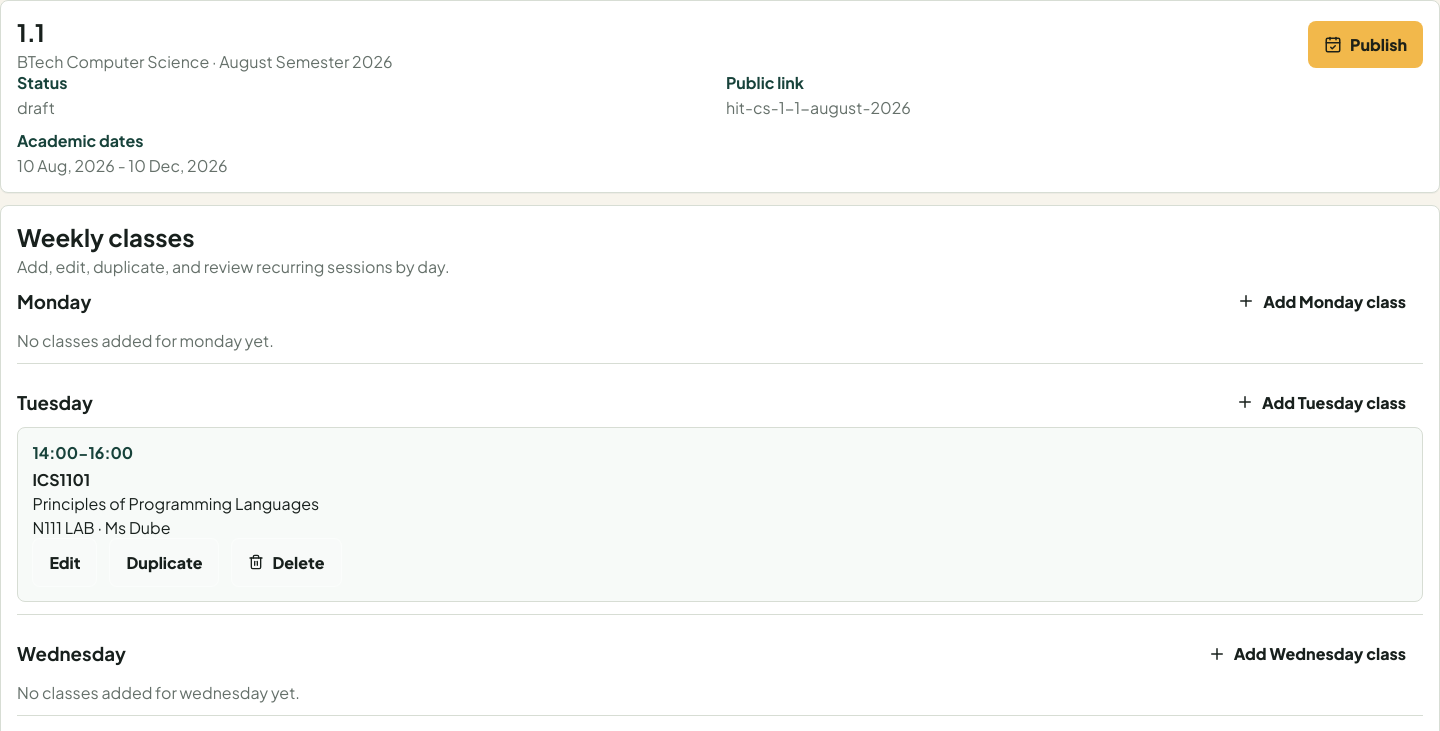
Test case: timetable editor manual entry flow › removes only the deleted session without showing the initial loading state
Click the button "Delete" at (286, 562), box [231,538,342,586]
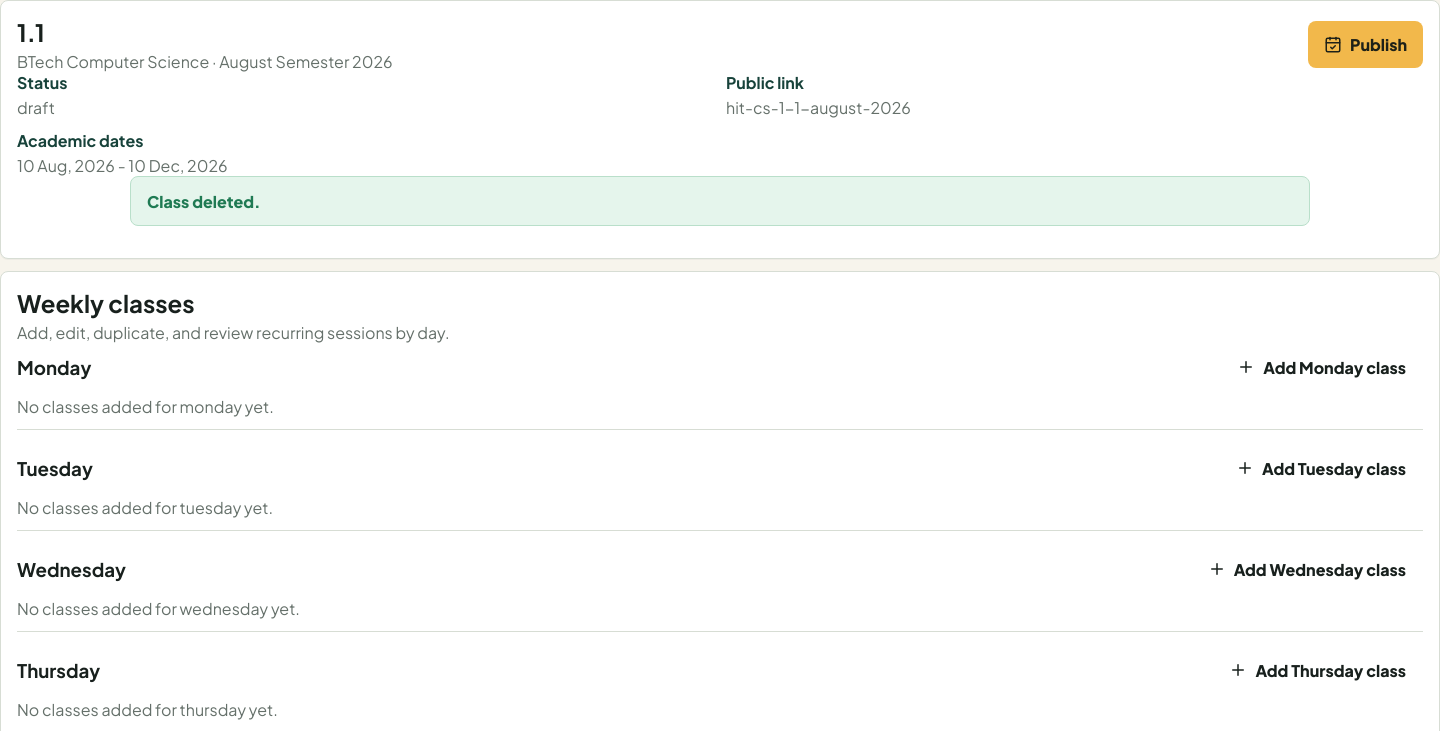
Expected: the button "Add Tuesday class" is enabled, [1219,444,1423,493]
Expected: the text "Principles of Programming Languages" is gone
